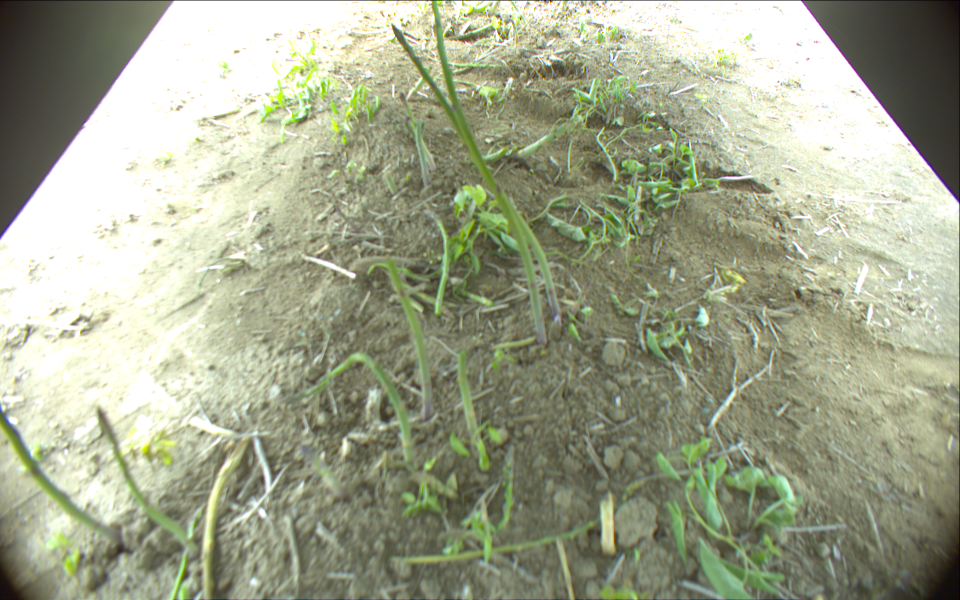aspa: (391, 24, 563, 321), (431, 1, 548, 345), (1, 401, 122, 542), (96, 404, 199, 553), (315, 352, 417, 463), (366, 255, 434, 418), (396, 515, 602, 563), (199, 440, 251, 600), (457, 350, 494, 474), (399, 91, 436, 170), (170, 511, 202, 600), (428, 213, 450, 316), (422, 53, 508, 69), (557, 540, 578, 600), (442, 21, 501, 40), (416, 114, 431, 185), (599, 492, 615, 553), (385, 171, 399, 194)
